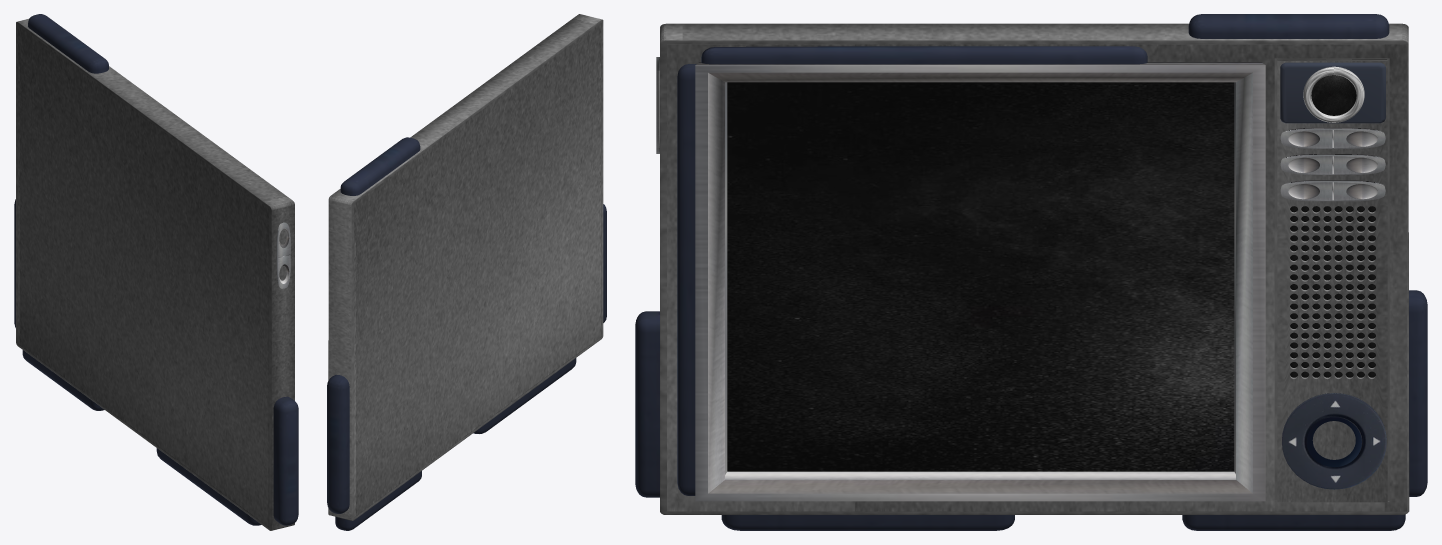
The model's file is Retrotab.fbx.
3 views of the same model, side by side, from view 1: azimuth 30°, elevation 25°; view 2: azimuth 150°, elevation 25°; view 3: azimuth 270°, elevation 25° (orthographic). The views are drawn at different scales.
Parts seen in each view (by area): view 1: Cube_0, Cube.009_15, Cube.011_10, Cube.012_16, Cube.014_11, Cube.013_17; view 2: Cube_0, Cube.017_18, Cube.011_10, Cube.012_16, Cube.013_17, Cube.009_15; view 3: Cube.015_12, Cube_0, Cube.002_2, Cube.004_4, Cube.018_20, Cube.003_19, Cylinder.001_3, Cube.001_1, Cube.016_14, Cube.011_10, Cube.012_16, Cube.009_15 (+8 smaller).
Part boxes in pixels (box(x1,y1,x2,y2)): Cube_0: box(16, 19, 294, 530); Cube.009_15: box(273, 396, 298, 525); Cube.011_10: box(28, 14, 108, 73); Cube.012_16: box(156, 448, 261, 525); Cube.014_11: box(276, 222, 290, 288); Cube.013_17: box(22, 350, 104, 410); Cube_0: box(328, 14, 603, 520); Cube.017_18: box(327, 374, 349, 513); Cube.011_10: box(340, 137, 420, 195); Cube.012_16: box(473, 358, 576, 433); Cube.013_17: box(335, 471, 421, 530); Cube.009_15: box(603, 204, 606, 322); Cube.015_12: box(727, 82, 1234, 471); Cube_0: box(660, 23, 1409, 514); Cube.002_2: box(695, 62, 1265, 501); Cube.004_4: box(1277, 58, 1387, 502); Cube.018_20: box(701, 46, 1147, 64); Cube.003_19: box(677, 64, 696, 495); Cylinder.001_3: box(1282, 393, 1386, 489); Cube.001_1: box(725, 82, 1235, 479); Cube.016_14: box(1290, 206, 1375, 377); Cube.011_10: box(1188, 14, 1389, 38); Cube.012_16: box(721, 515, 1014, 530); Cube.009_15: box(635, 311, 659, 497).
Bounding box in the file's own units: 13.3 × 140 × 196.
